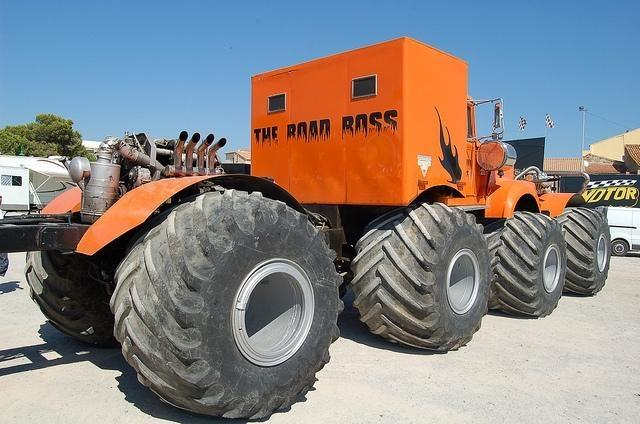bus: (544, 174, 640, 256)
car: (593, 206, 640, 255)
truck: (1, 38, 610, 422)
